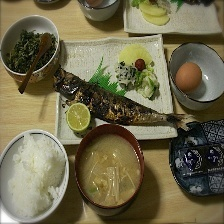rice: (1, 127, 68, 221)
